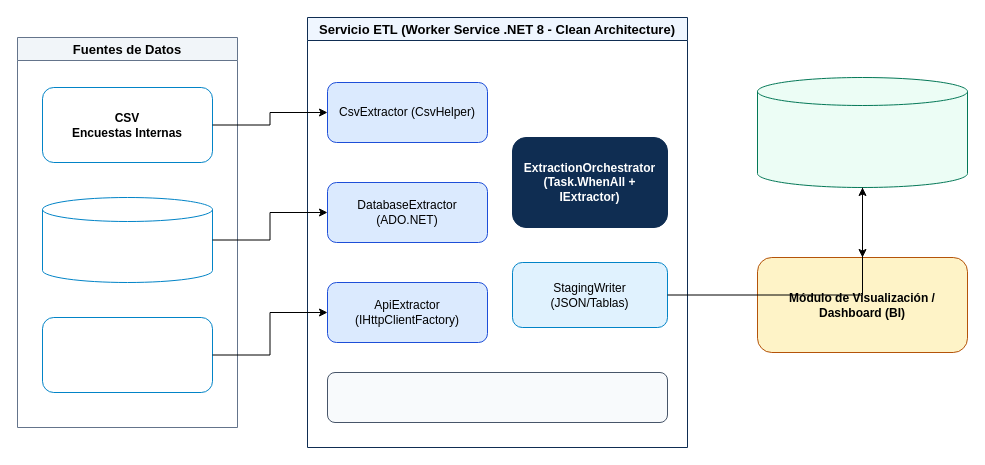
Some shapes in this 985 by 465 pixel diagram are drawn without their labels. Here are the shapes that lost their labels. From the top down, the box of each, then its label:
(756, 76, 968, 188): Base de Datos Analítica (Data Warehouse)
(42, 196, 212, 282): BD Relacional (SQL) Reseñas de Clientes
(42, 316, 212, 392): API REST (HTTPS) Comentarios Externos
(326, 372, 668, 422): ILogger + Stopwatch + appsettings.json
